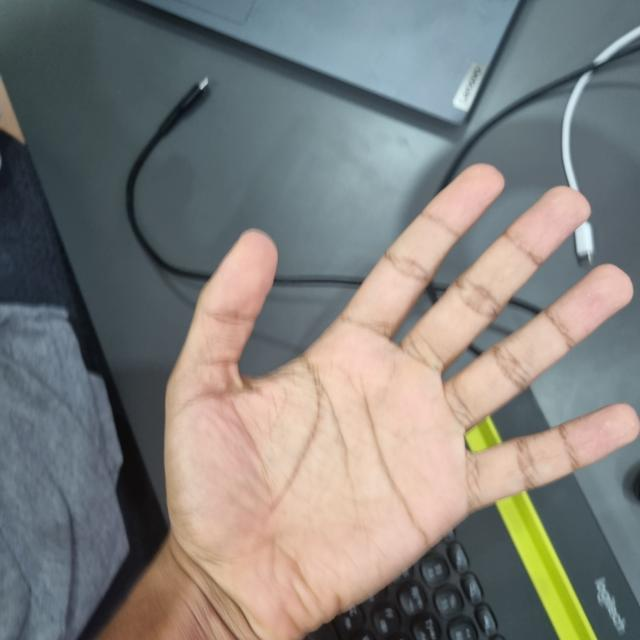Paper: (166, 166, 639, 639)
